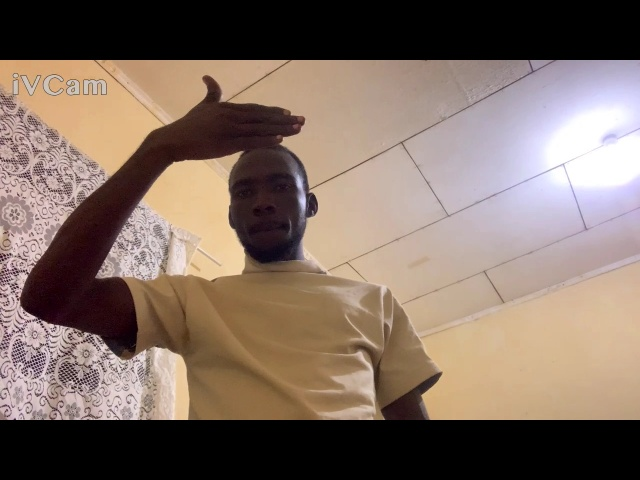je ne sais pas: (144, 71, 345, 173)
